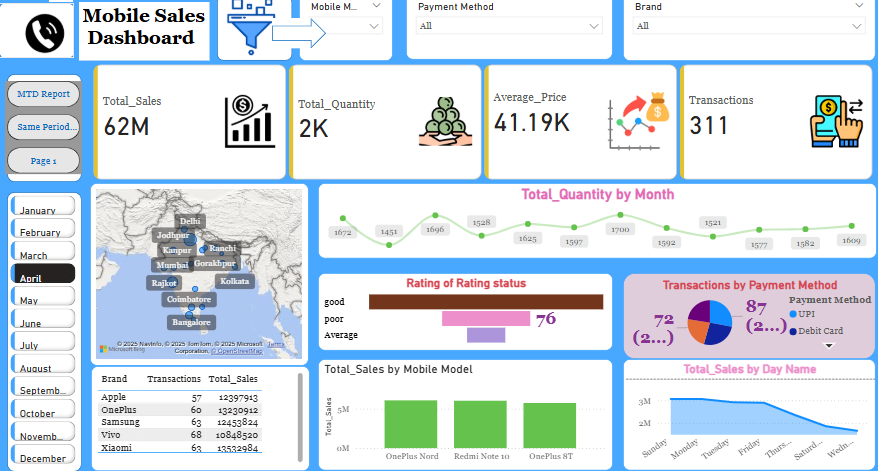

Layout of this report page (visuals, bound fields, positions):
{"tool":"powerbi","page":{"name":"Dashboard","canvas":[1280,720],"ordinal":0},"visuals":[{"type":"shape","box":[296.9,219.4,107.2,79.2],"z":0},{"type":"image","box":[25.2,55.4,79,89],"z":1000},{"type":"shape","box":[11.8,157.9,105.8,152.9],"z":2000},{"type":"shape","box":[11.8,324.2,105.8,396.4],"z":3000},{"type":"advancedSlicerVisual","fields":{"Values":["Custom_Calendar.Date.Variation.Date Hierarchy.Month"]},"box":[11.8,324.2,102.5,396.4],"z":4000},{"type":"cardVisual","fields":{"Data":["Mobile_Sales_Data.Total_Sales","Mobile_Sales_Data.Total_Quantity","Mobile_Sales_Data.Average_Price","Mobile_Sales_Data.Transactions"]},"box":[128.3,138.3,1115,173.3],"z":5000},{"type":"slicer","fields":{"Values":["Mobile_Sales_Data.Mobile Model"]},"box":[425,43.3,133.3,95],"z":6000},{"type":"slicer","fields":{"Values":["Mobile_Sales_Data.Payment Method"]},"box":[576.7,43.3,293.3,93.3],"z":7000},{"type":"slicer","fields":{"Values":["Mobile_Sales_Data.Brand"]},"box":[885,43.3,358.3,95],"z":8000},{"type":"shape","box":[308.3,46.7,106.7,91.7],"z":9000},{"type":"image","box":[308.3,43.3,96.7,93.3],"z":10000},{"type":"shape","box":[386.7,78.3,76.7,43.3],"z":11000},{"type":"shape","box":[113.3,55,183.3,83.3],"z":12000},{"type":"textbox","box":[113.3,55,185,83.3],"z":13000},{"type":"map","fields":{"Category":["Mobile_Sales_Data.City"],"Size":["Mobile_Sales_Data.Total_Sales"]},"box":[129,311.8,310.4,259.4],"z":14000},{"type":"lineChart","fields":{"Category":["Custom_Calendar.Date.Variation.Date Hierarchy.Month"],"Y":["Mobile_Sales_Data.Total_Quantity"]},"box":[451.7,311.7,791.7,106.7],"z":15000},{"type":"funnel","title":"Rating of Rating status","fields":{"Category":["Mobile_Sales_Data.Rating Status"],"Y":["CountNonNull(Mobile_Sales_Data.Customer Ratings)"]},"box":[451.7,440,418.3,110],"z":16000},{"type":"pieChart","fields":{"Category":["Mobile_Sales_Data.Payment Method"],"Y":["Mobile_Sales_Data.Transactions"]},"box":[885,440,358.3,121.7],"z":17000},{"type":"clusteredColumnChart","fields":{"Y":["Mobile_Sales_Data.Total_Sales"],"Category":["Mobile_Sales_Data.Mobile Model"]},"box":[451.7,561.7,418.3,158.3],"z":18000},{"type":"areaChart","fields":{"Y":["Mobile_Sales_Data.Total_Sales"],"Category":["Custom_Calendar.Day Name"]},"box":[885,561.7,358.3,158.3],"z":19000},{"type":"tableEx","fields":{"Values":["Mobile_Sales_Data.Brand","Mobile_Sales_Data.Transactions","Mobile_Sales_Data.Total_Sales"]},"box":[130.4,571.2,310.4,148.8],"z":20000},{"type":"pageNavigator","box":[8.5,167.2,109.1,131.8],"z":21000}]}

Visuals, with their boxes on the page's 1280x720 design canvas (x1, y1, x2, y2). These are canvas units, not pixel positions in the 878x471 screenshot, which may show the page scaled, cropped or inside an application window:
shape: locate(297, 219, 404, 299)
image: locate(25, 55, 104, 144)
shape: locate(12, 158, 118, 311)
shape: locate(12, 324, 118, 721)
advancedSlicerVisual - Custom_Calendar.Date.Variation.Date Hierarchy.Month: locate(12, 324, 114, 721)
cardVisual - Mobile_Sales_Data.Total_Sales x Mobile_Sales_Data.Total_Quantity: locate(128, 138, 1243, 312)
slicer - Mobile_Sales_Data.Mobile Model: locate(425, 43, 558, 138)
slicer - Mobile_Sales_Data.Payment Method: locate(577, 43, 870, 137)
slicer - Mobile_Sales_Data.Brand: locate(885, 43, 1243, 138)
shape: locate(308, 47, 415, 138)
image: locate(308, 43, 405, 137)
shape: locate(387, 78, 463, 122)
shape: locate(113, 55, 297, 138)
textbox: locate(113, 55, 298, 138)
map - Mobile_Sales_Data.City x Mobile_Sales_Data.Total_Sales: locate(129, 312, 439, 571)
lineChart - Custom_Calendar.Date.Variation.Date Hierarchy.Month x Mobile_Sales_Data.Total_Quantity: locate(452, 312, 1243, 418)
"Rating of Rating status" funnel: locate(452, 440, 870, 550)
pieChart - Mobile_Sales_Data.Payment Method x Mobile_Sales_Data.Transactions: locate(885, 440, 1243, 562)
clusteredColumnChart - Mobile_Sales_Data.Total_Sales x Mobile_Sales_Data.Mobile Model: locate(452, 562, 870, 720)
areaChart - Mobile_Sales_Data.Total_Sales x Custom_Calendar.Day Name: locate(885, 562, 1243, 720)
tableEx - Mobile_Sales_Data.Brand x Mobile_Sales_Data.Transactions: locate(130, 571, 441, 720)
pageNavigator: locate(8, 167, 118, 299)
